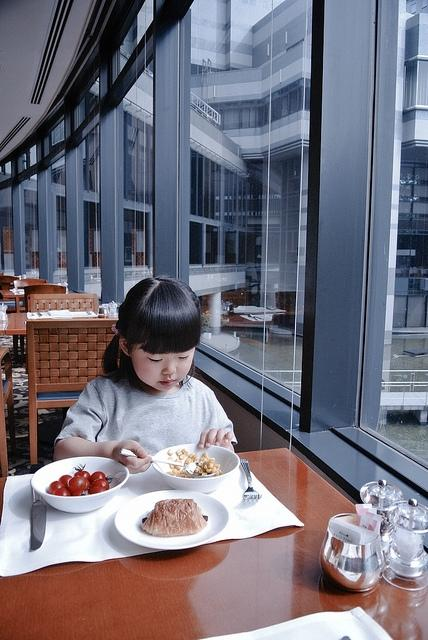tomato: (67, 476, 86, 494), (72, 462, 90, 480), (90, 478, 110, 491), (48, 480, 66, 494), (58, 474, 72, 490), (90, 471, 106, 485), (52, 488, 71, 496), (88, 486, 106, 494), (72, 488, 90, 496), (84, 478, 91, 492)
